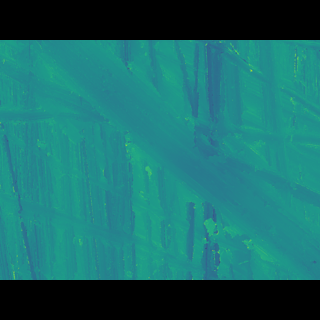Loch: (25, 69, 320, 250)
